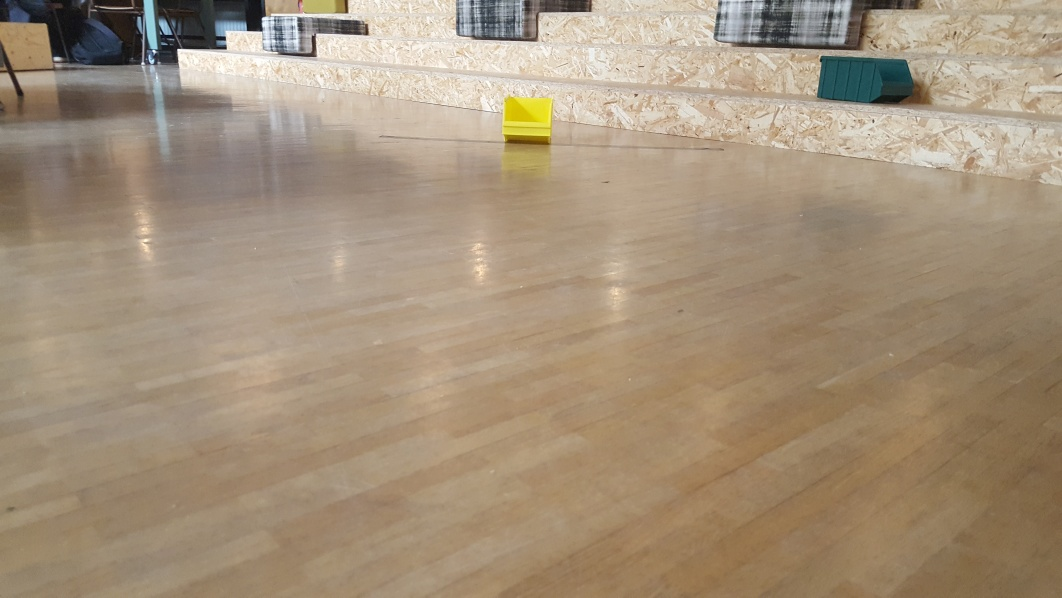tray: (809, 50, 918, 107), (495, 92, 555, 147)
